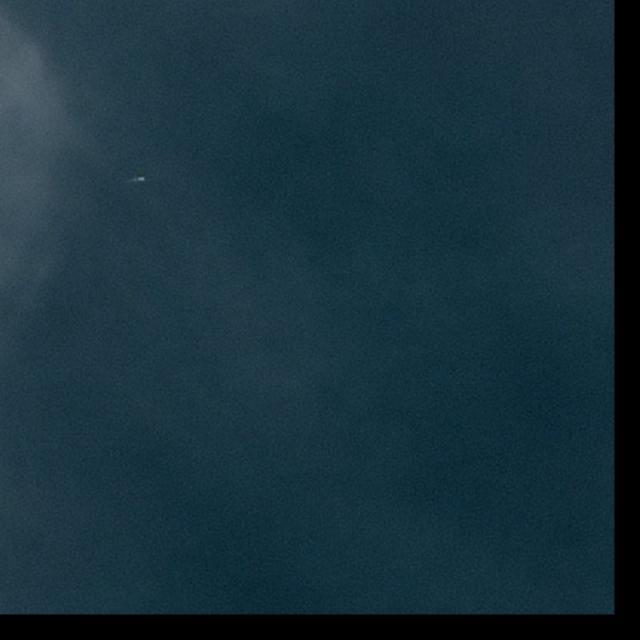ship: (136, 177, 146, 182)
